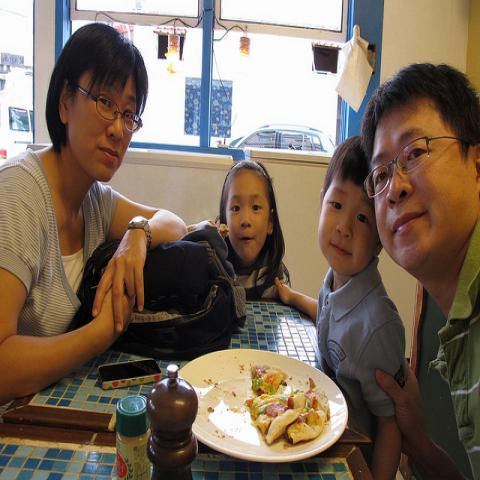car: (230, 125, 335, 156), (1, 94, 34, 164)
